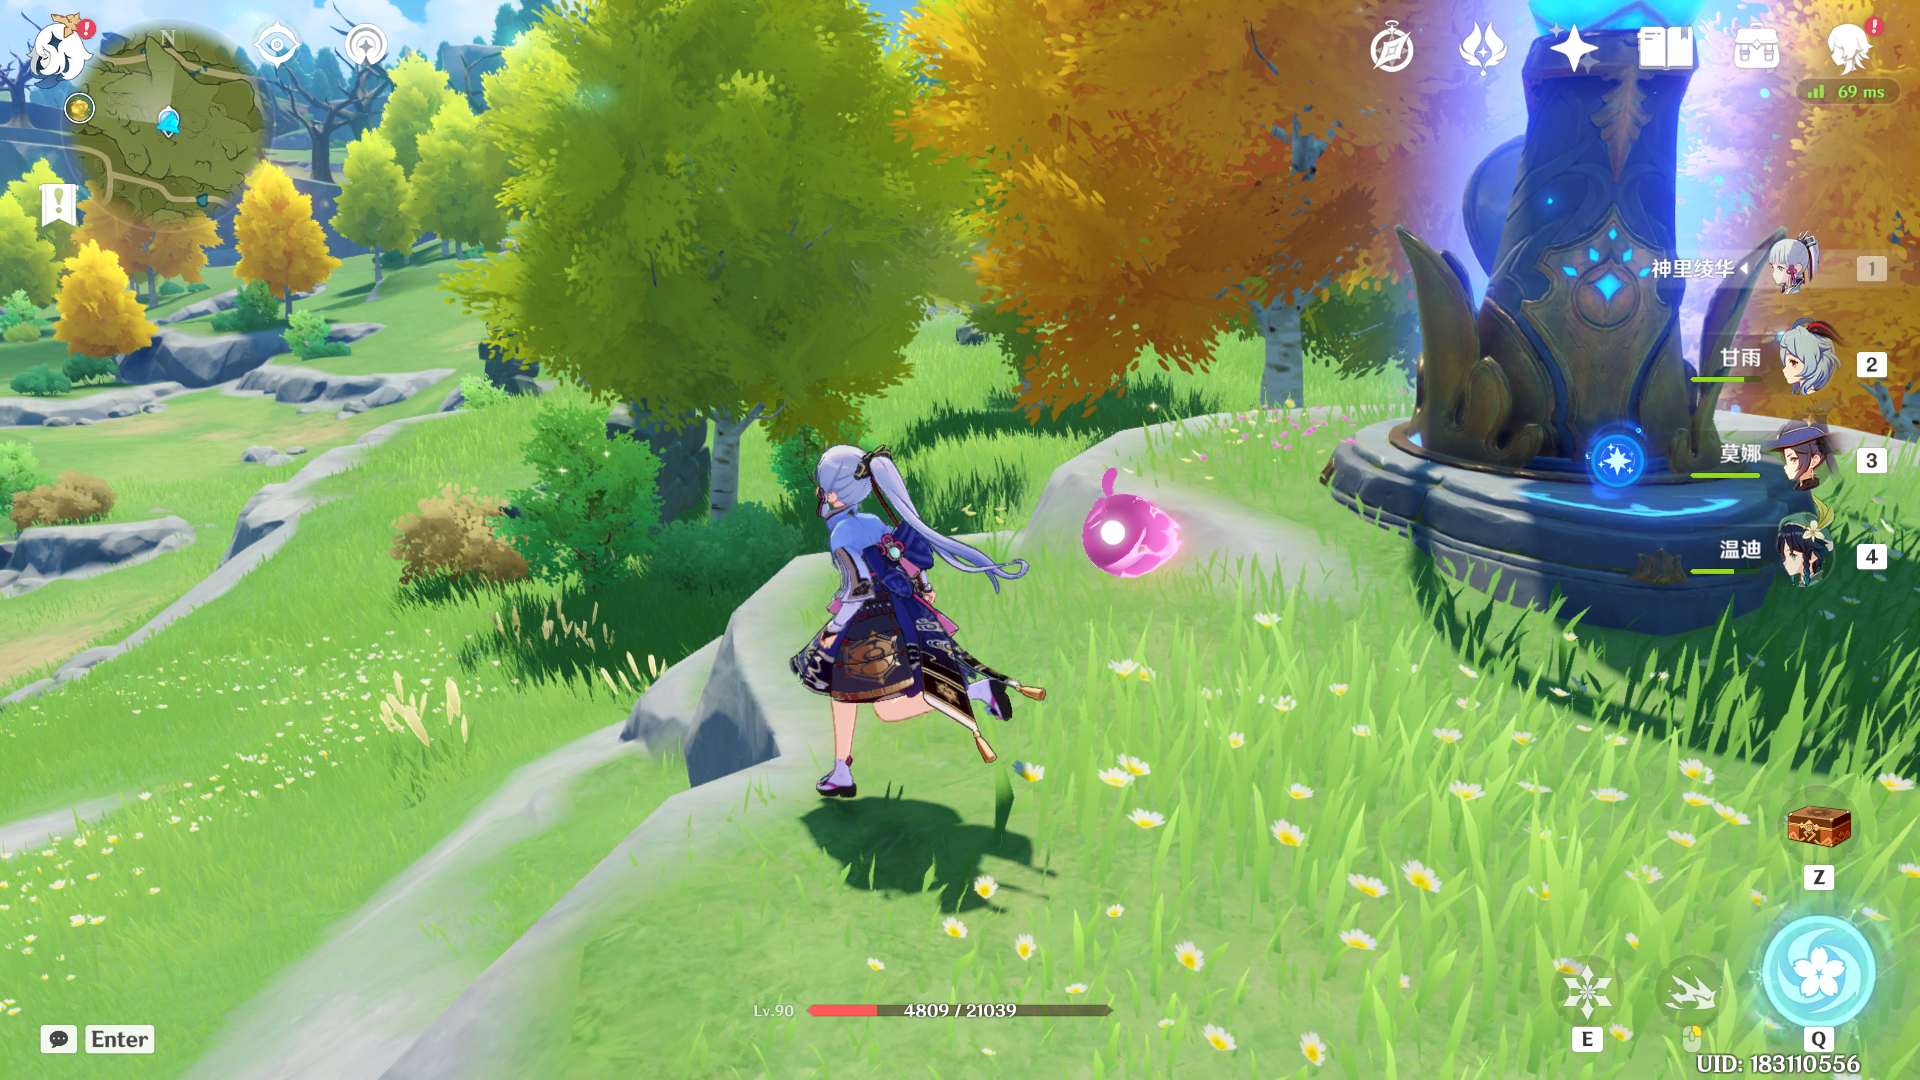character: (735, 423, 1047, 837)
